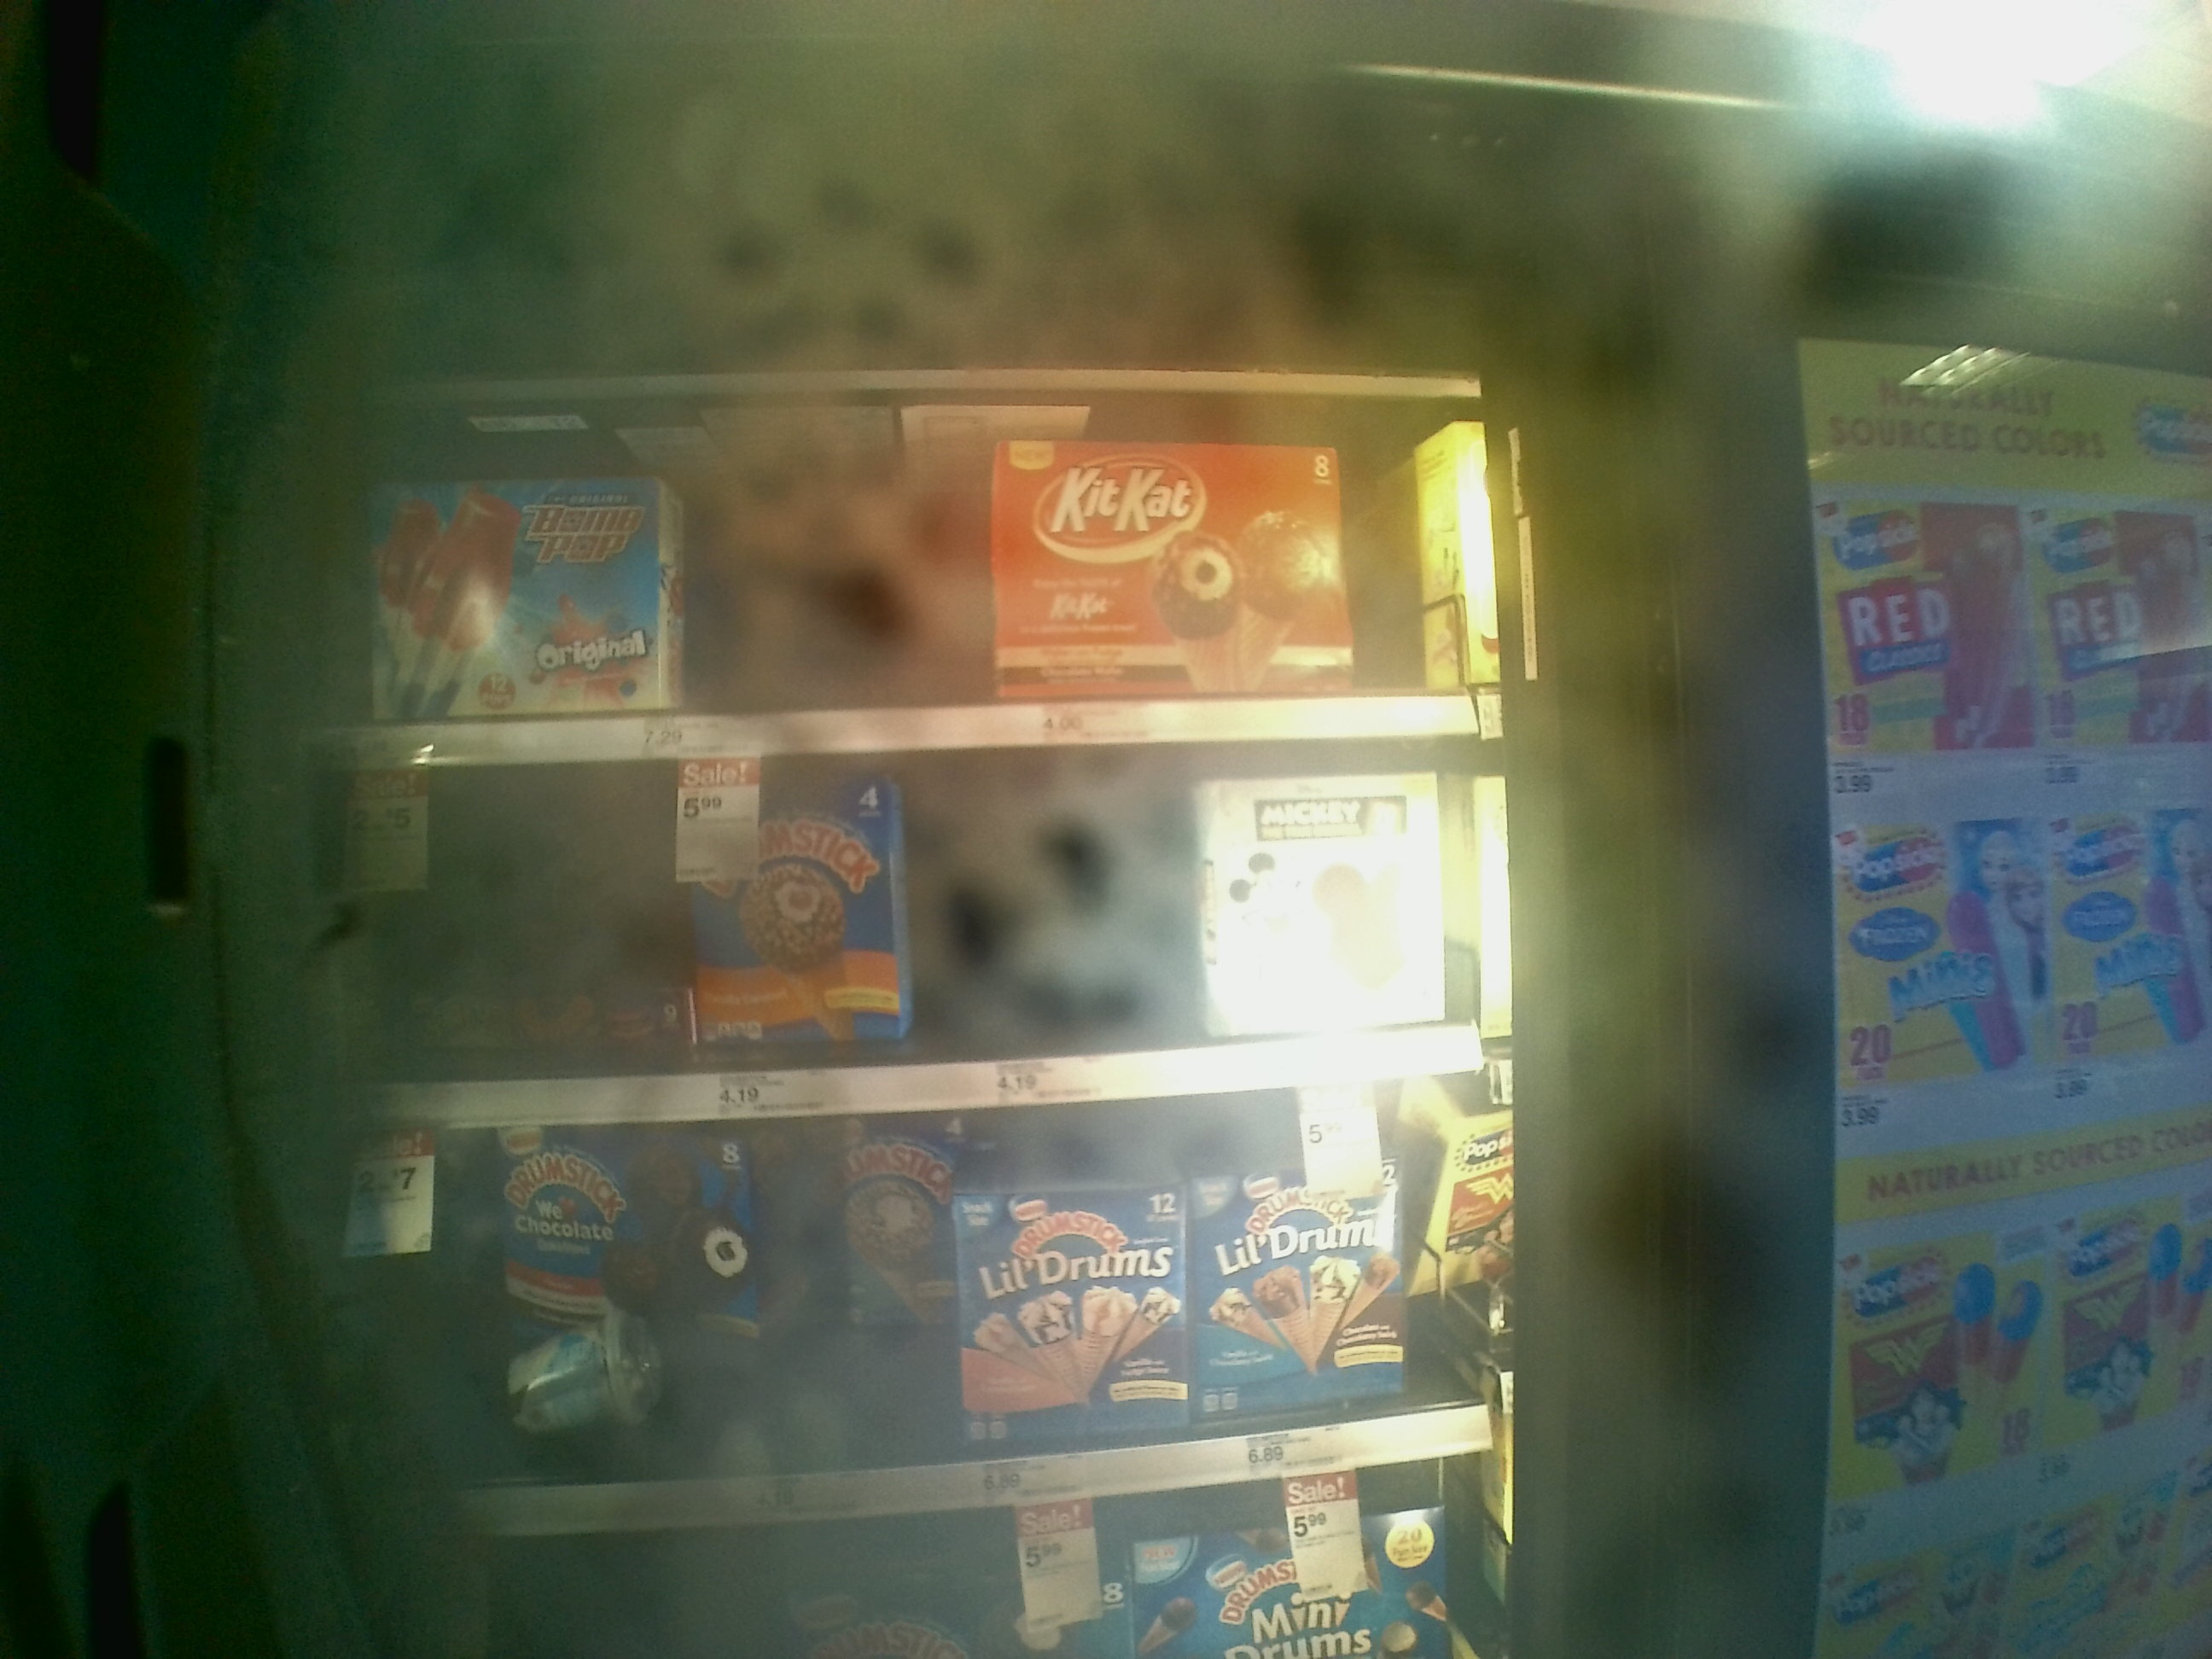shelf: (324, 721, 1533, 1140), (315, 390, 1508, 763)
